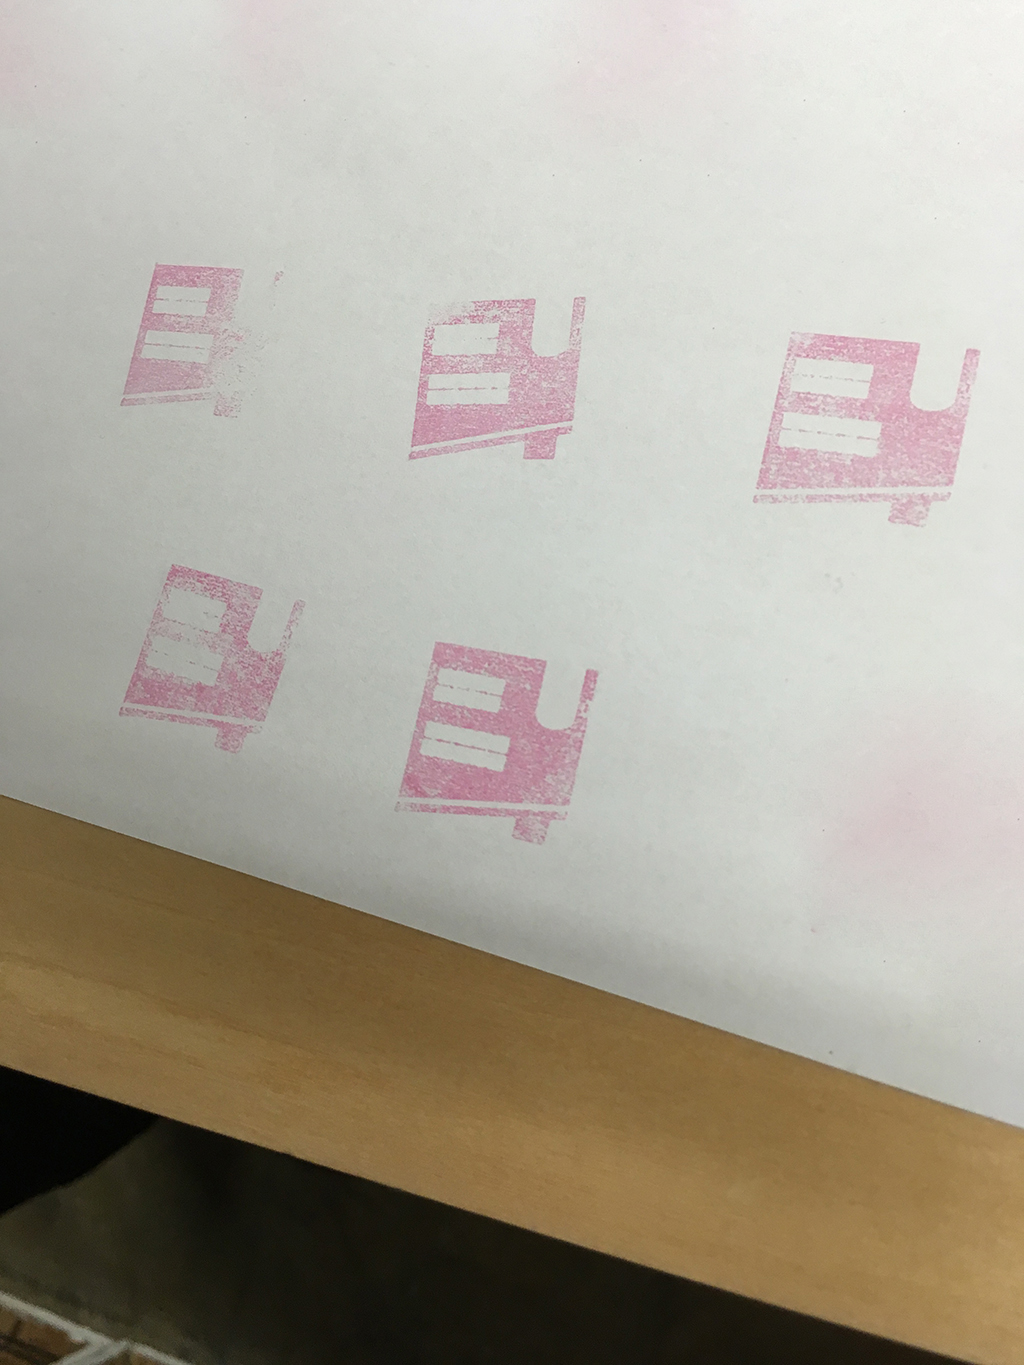house: (745, 305, 995, 548), (376, 625, 617, 852), (100, 540, 314, 762), (373, 286, 608, 483), (112, 242, 305, 433)
